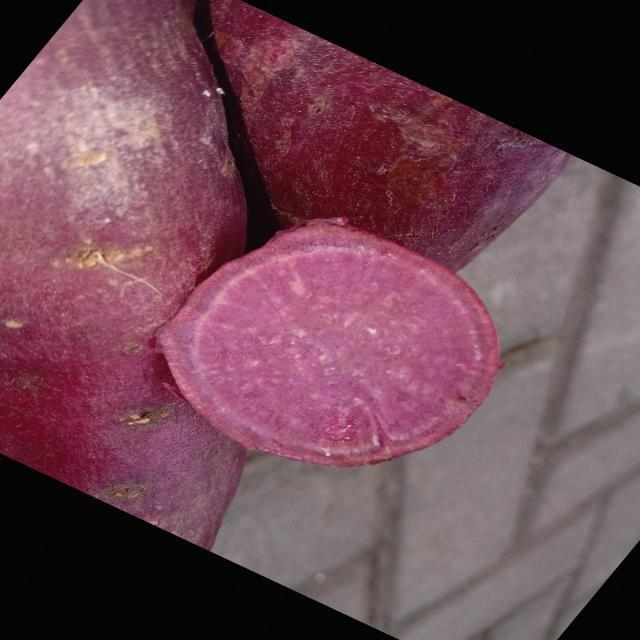Healthy Sweet Potato: (157, 220, 500, 466)
